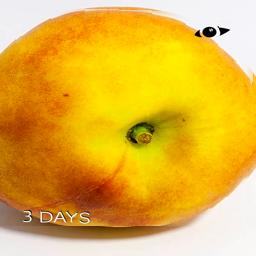Peach Fresh: (0, 6, 256, 226)
